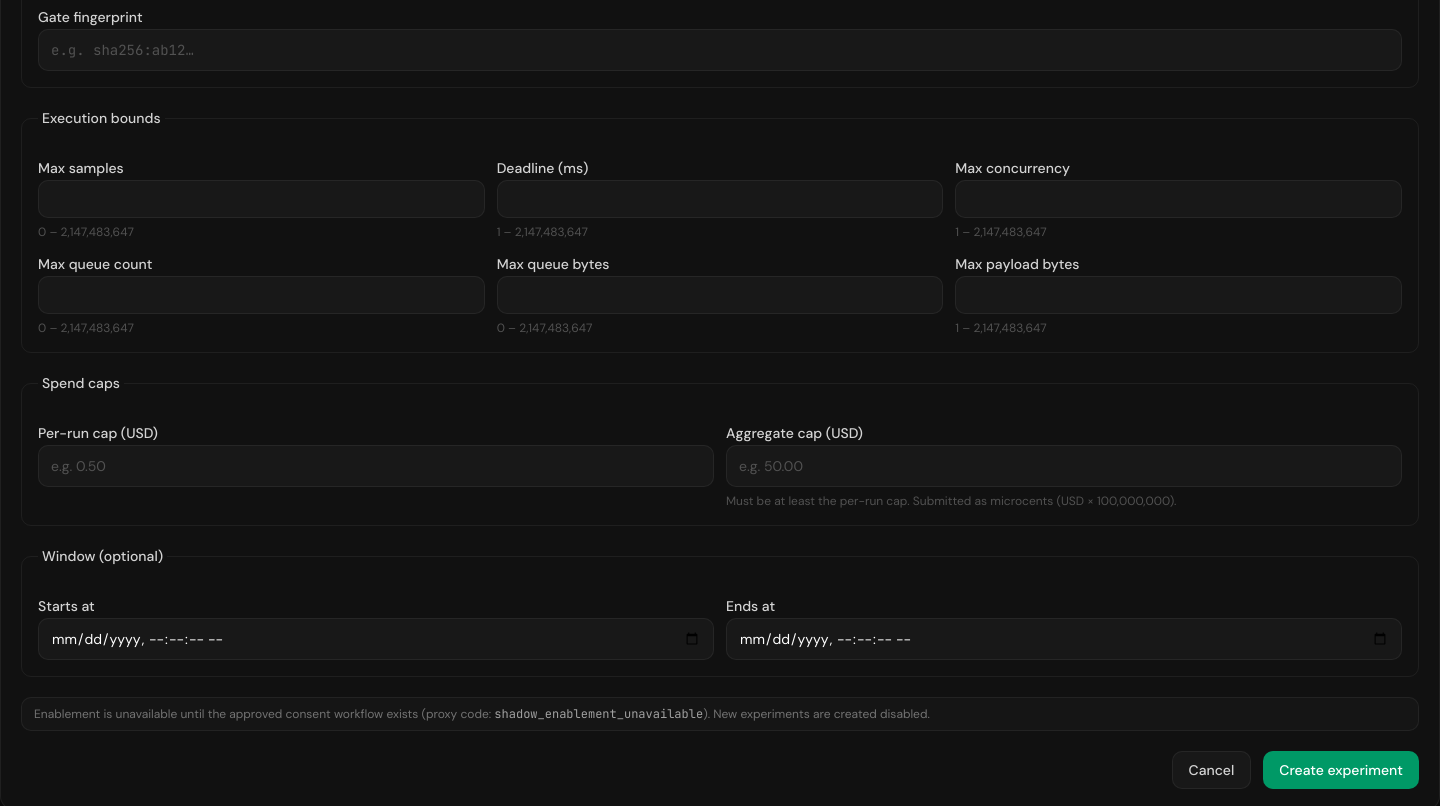
Scenario: ExperimentEditor client-side validation › requires a name before anything else
This screenshot has width=1440, height=806.
(page scrolled)
Click the button "Create experiment": (1341, 770) [1263,751,1419,789]
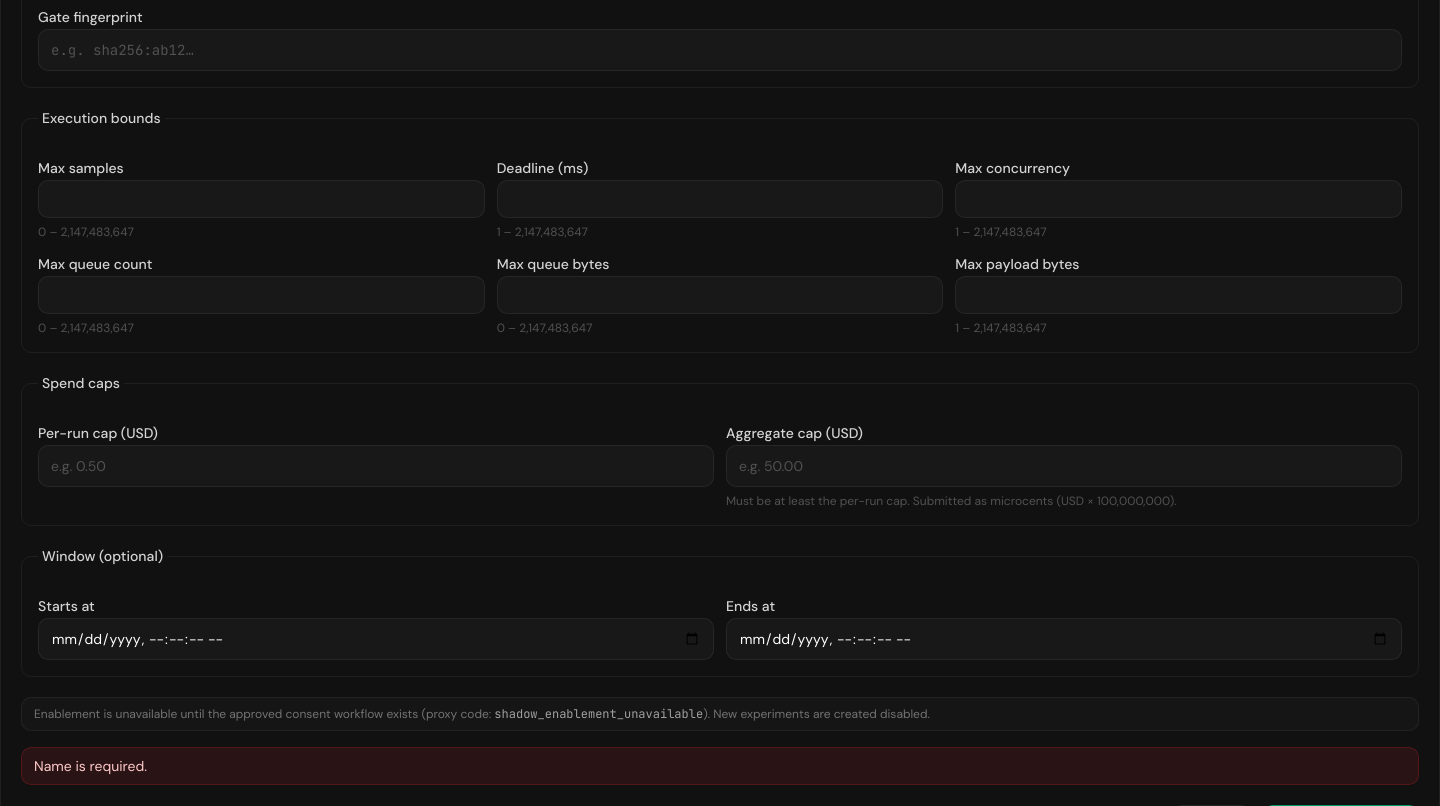
Now the text "Name is required." is shown, box [21,747,1419,785]
